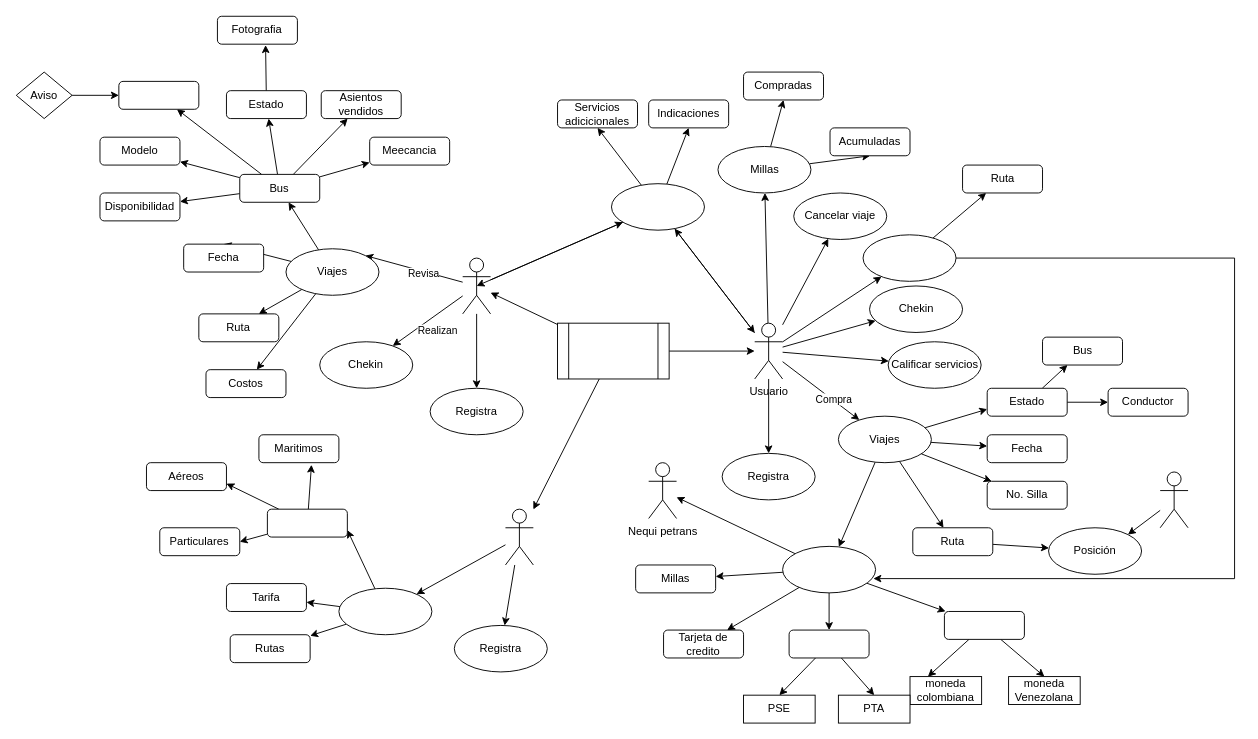
This 1258x739 diagram has some shape labels left out. Each missing label, with the centre of its shape:
"Chat" goes at (x=657, y=206).
"Conductor complememntario" goes at (x=519, y=536).
"Efectivo" goes at (x=983, y=625).
"Mantenimiento" goes at (x=158, y=94).
"Pagos" goes at (x=829, y=569).
"Sistema o Aplicación" goes at (x=613, y=350).
"Socio" goes at (x=476, y=285).
"Tarjeta debito" goes at (x=828, y=643).
"Tiempo" goes at (x=1173, y=499).
"Trasporte complementario" goes at (x=909, y=257).
"Vehiculos" goes at (x=306, y=522).
"Viaje complementario" goes at (x=385, y=611).
